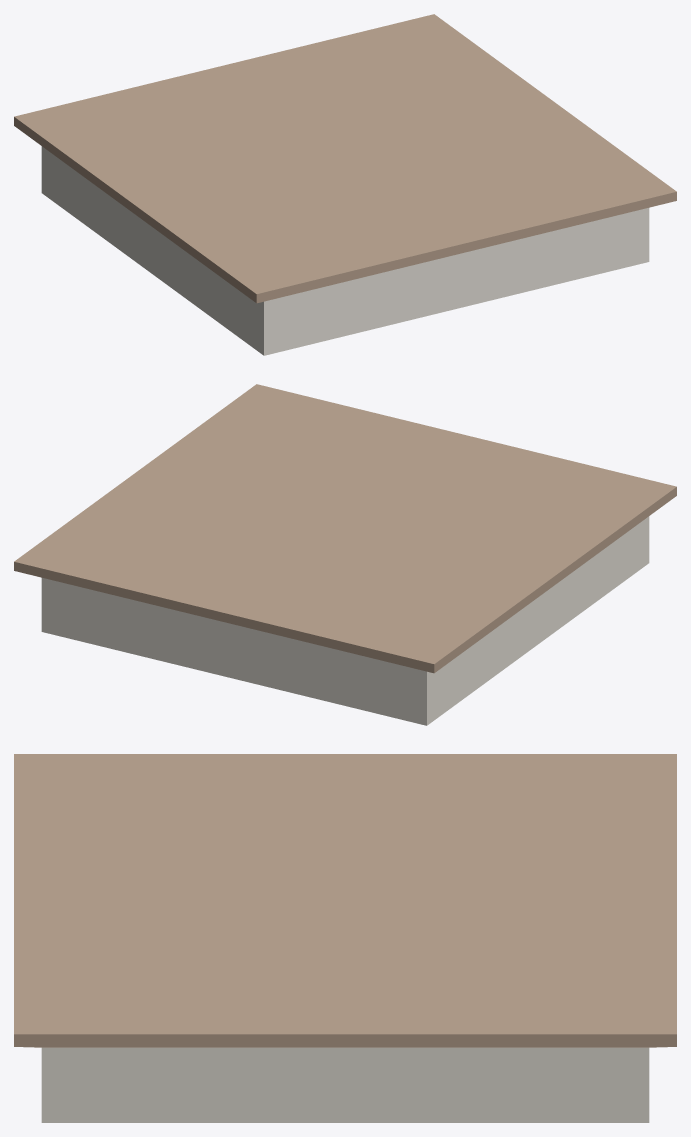
Rendered from Structure_Balcony_4_Edges.fbx.
3 renders of one model, top to bottom at view 1: azimuth 30°, elevation 25°; view 2: azimuth 150°, elevation 25°; view 3: azimuth 270°, elevation 25°, orthographic. The views are drawn at different scales.
Parts seen in each view (by area): view 1: object1.059; view 2: object1.059; view 3: object1.059.
Part boxes in pixels (box(x1,y1,x2,y2)): object1.059: box(14, 14, 676, 355); object1.059: box(14, 384, 676, 725); object1.059: box(14, 754, 676, 1122).
Bounding box in the file's own units: 120 × 20 × 120.
